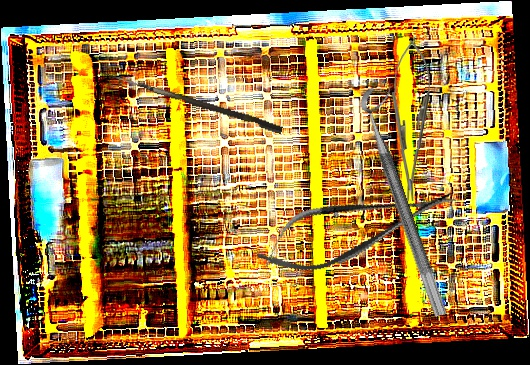Fixation Ring: (355, 82, 468, 318)
Hook Surgical: (97, 70, 284, 135)
Micro Scissor: (248, 169, 466, 287)
Needle Holder: (389, 39, 432, 202)
